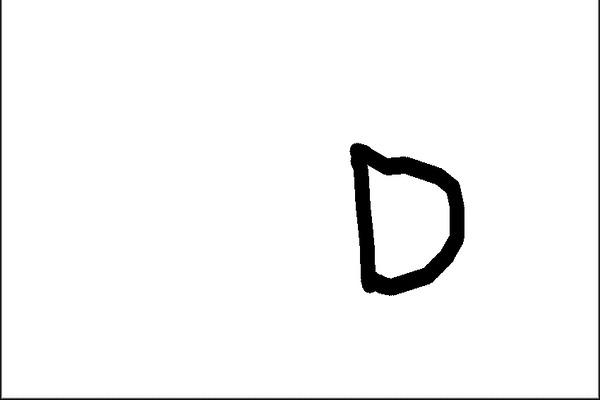D: (341, 138, 474, 300)
